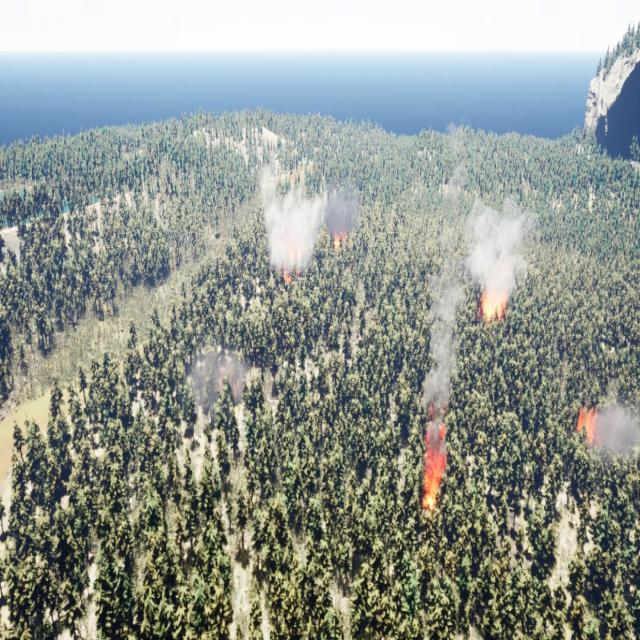fire: (424, 440, 444, 519), (574, 395, 596, 442), (481, 289, 504, 323)
smoke: (260, 174, 354, 280), (418, 270, 468, 421), (468, 191, 528, 308), (185, 340, 247, 416), (588, 406, 640, 457)
